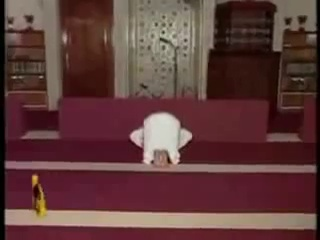sujud: (129, 113, 201, 168)
